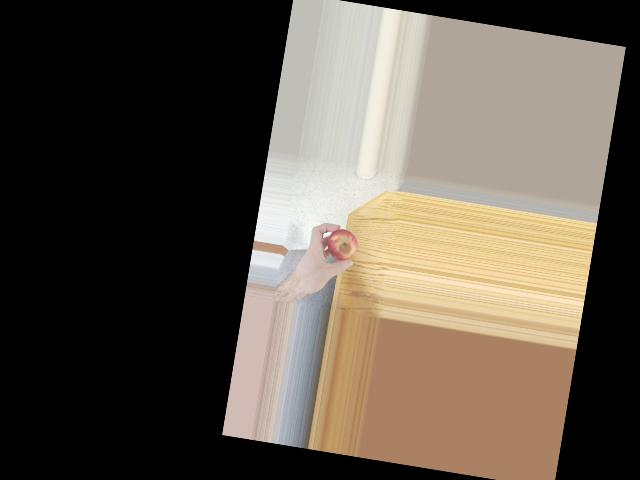apple: (327, 227, 360, 263)
